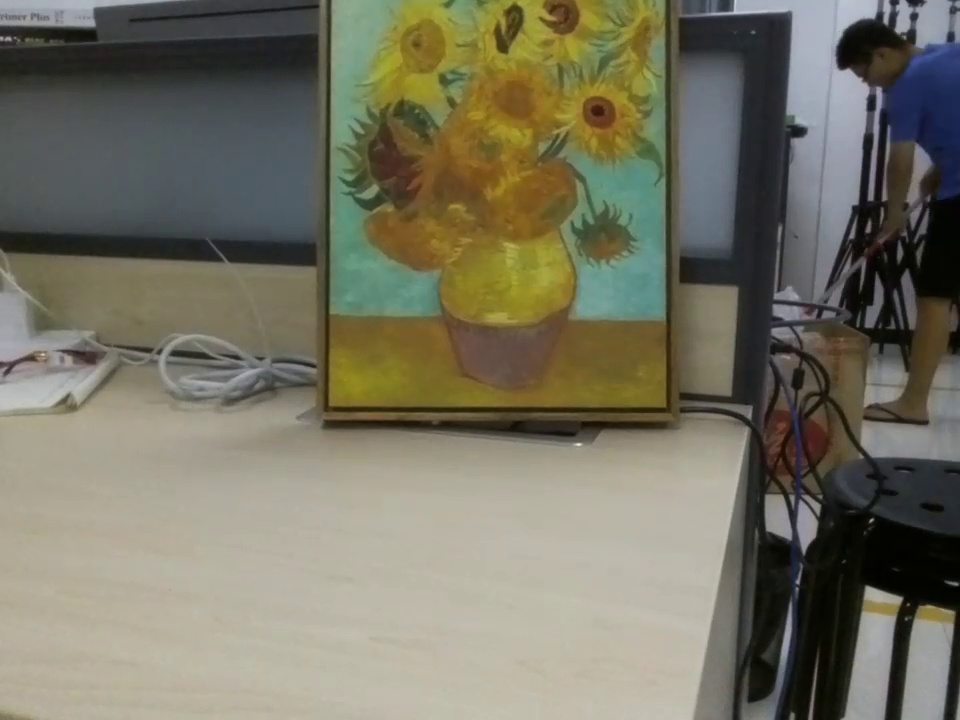painting: (320, 1, 687, 429)
